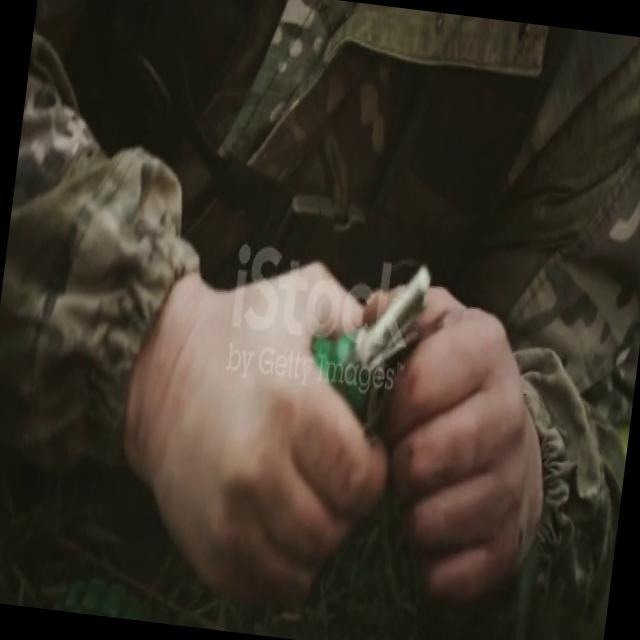grenade: (311, 250, 441, 413)
